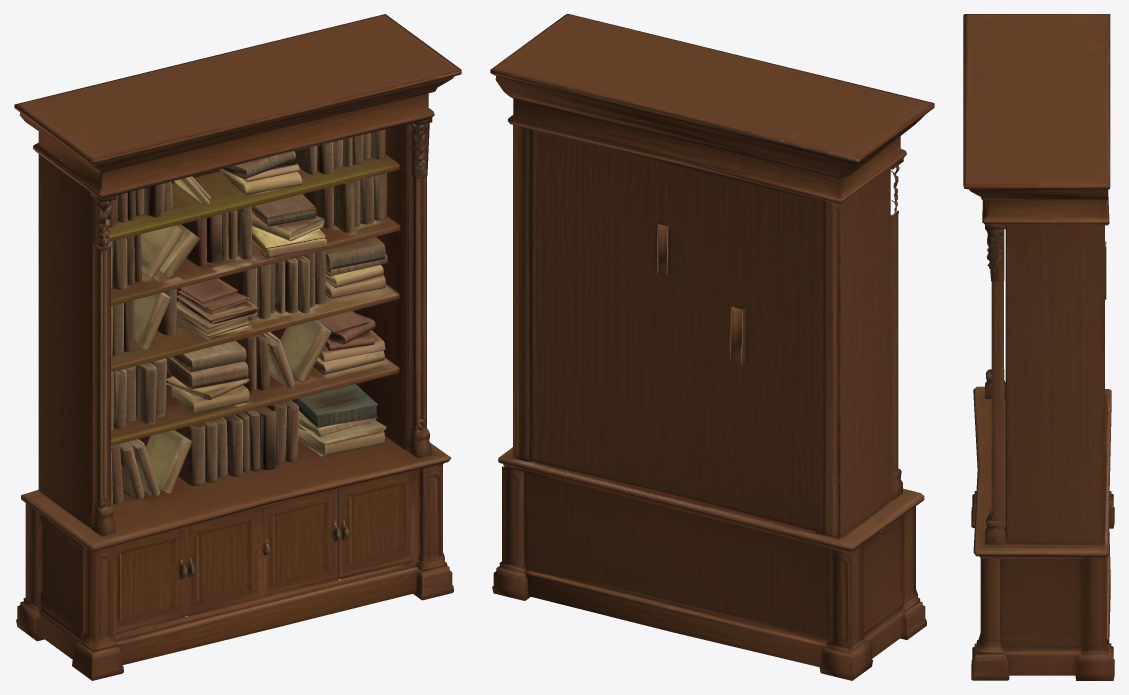
File: realistic_bookcase.glb
3 renders of one model, left to right at view 1: azimuth 30°, elevation 25°; view 2: azimuth 150°, elevation 25°; view 3: azimuth 270°, elevation 25°, orthographic. The views are drawn at different scales.
Visible parts, largest first — view 1: tripo_8dba0b25_c08e_4e48_aa73_36a0db4e09dd; view 2: tripo_8dba0b25_c08e_4e48_aa73_36a0db4e09dd; view 3: tripo_8dba0b25_c08e_4e48_aa73_36a0db4e09dd.
Part boxes in pixels (x1,y1,x2,y2): tripo_8dba0b25_c08e_4e48_aa73_36a0db4e09dd: [14, 14, 461, 680]; tripo_8dba0b25_c08e_4e48_aa73_36a0db4e09dd: [490, 14, 934, 680]; tripo_8dba0b25_c08e_4e48_aa73_36a0db4e09dd: [963, 14, 1114, 680].
Bounding box in the file's own units: 0.7387 × 0.9995 × 0.2749.
Materials: 1 (1 with a texture image).
